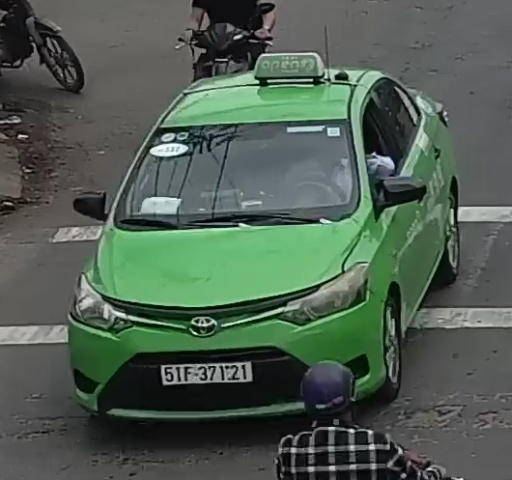vehicle plate: (156, 357, 261, 391)
